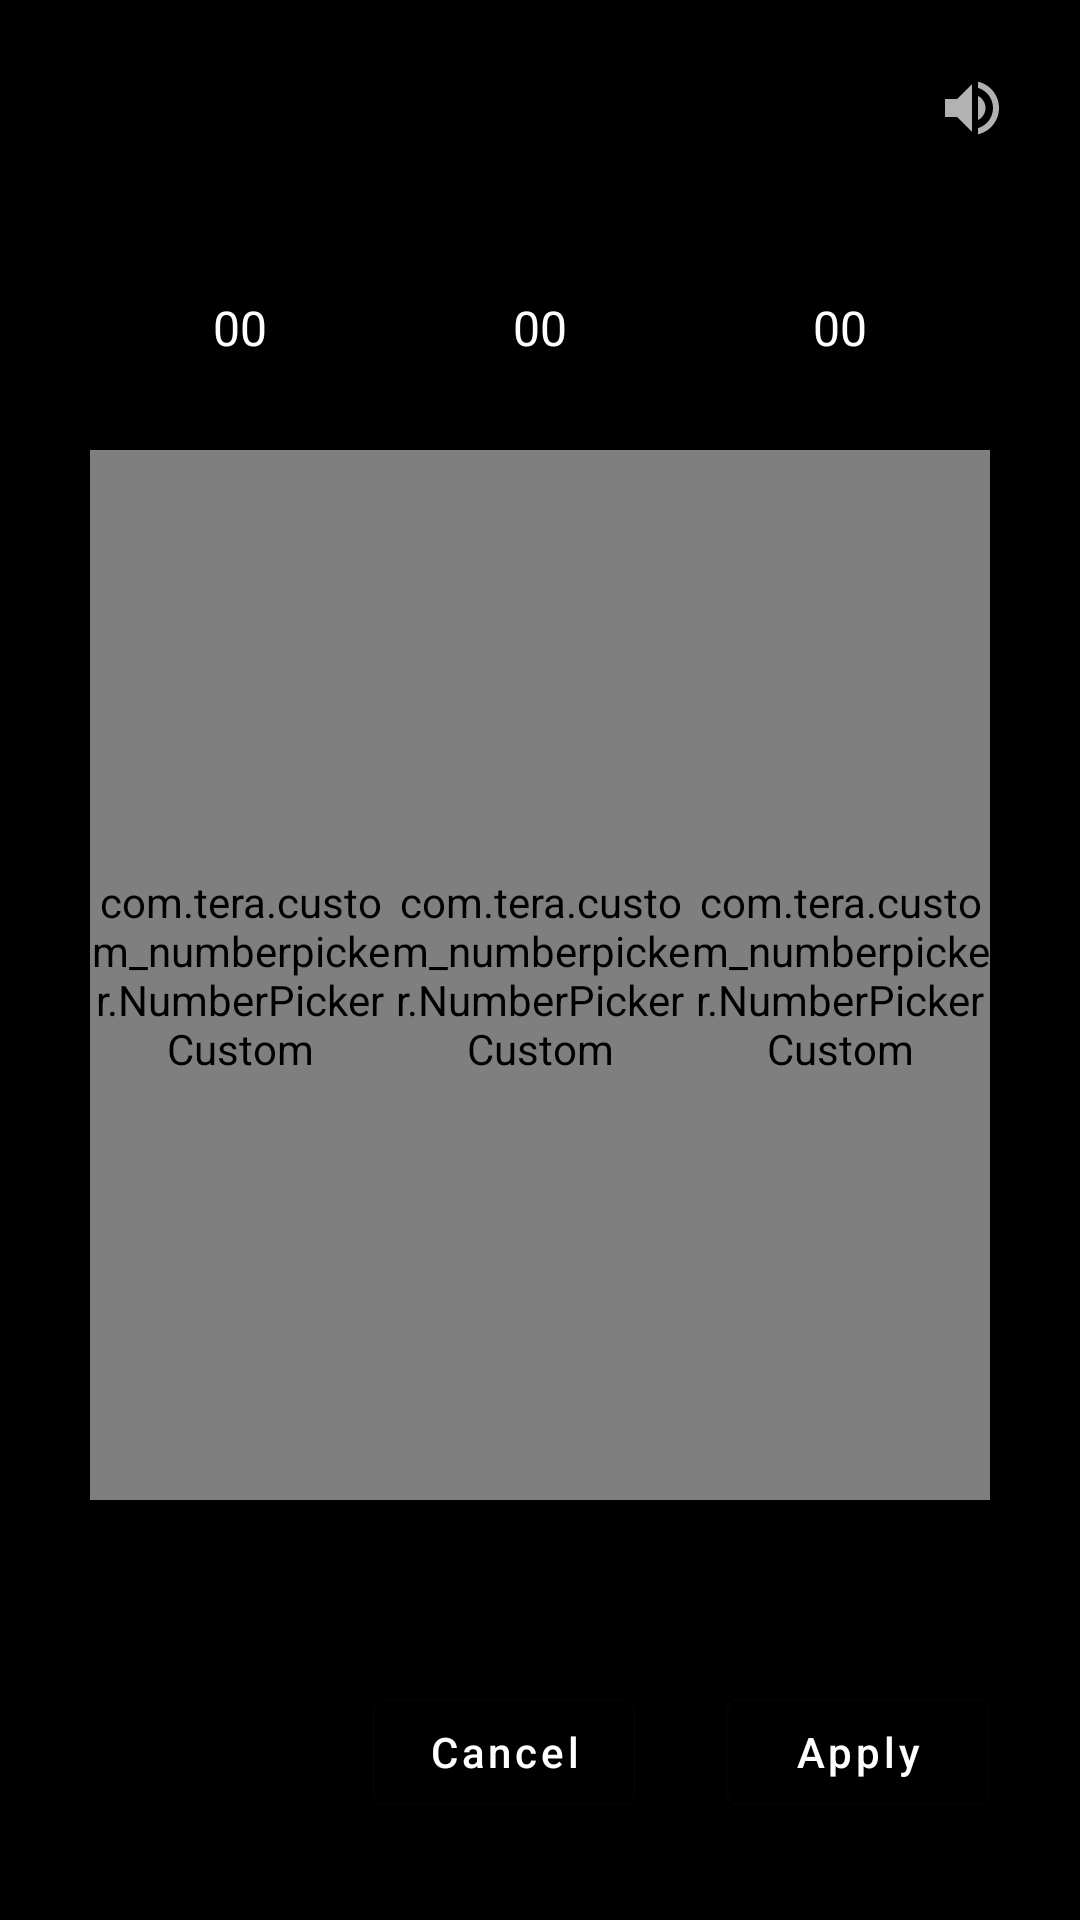

Where to tap for icons on this 1080px×1920px app screen, as point (x, y):
volume up: point (972, 108)
